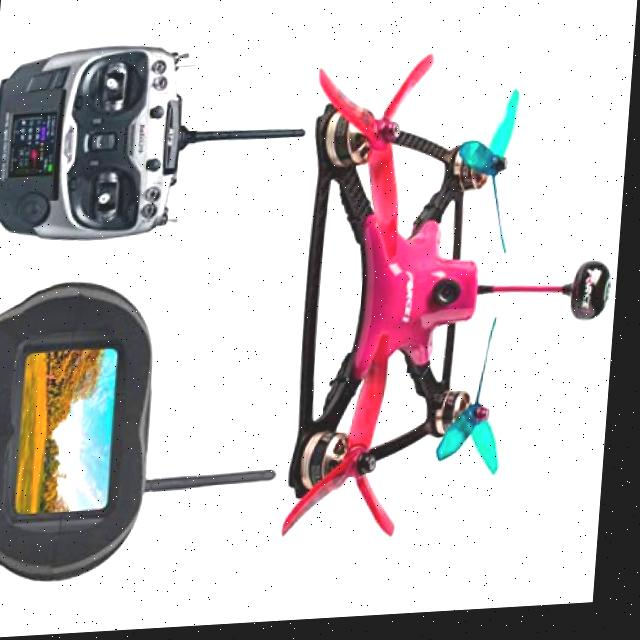drone: (276, 20, 551, 564)
